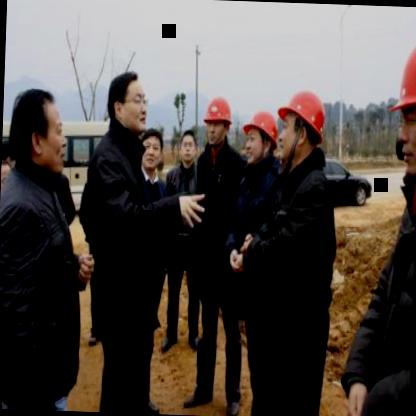head: (6, 84, 68, 176), (104, 66, 152, 139), (138, 122, 167, 177), (178, 126, 200, 170), (0, 158, 15, 206)
helmet: (388, 22, 416, 183), (278, 85, 328, 168), (242, 108, 281, 167), (202, 92, 234, 153)
